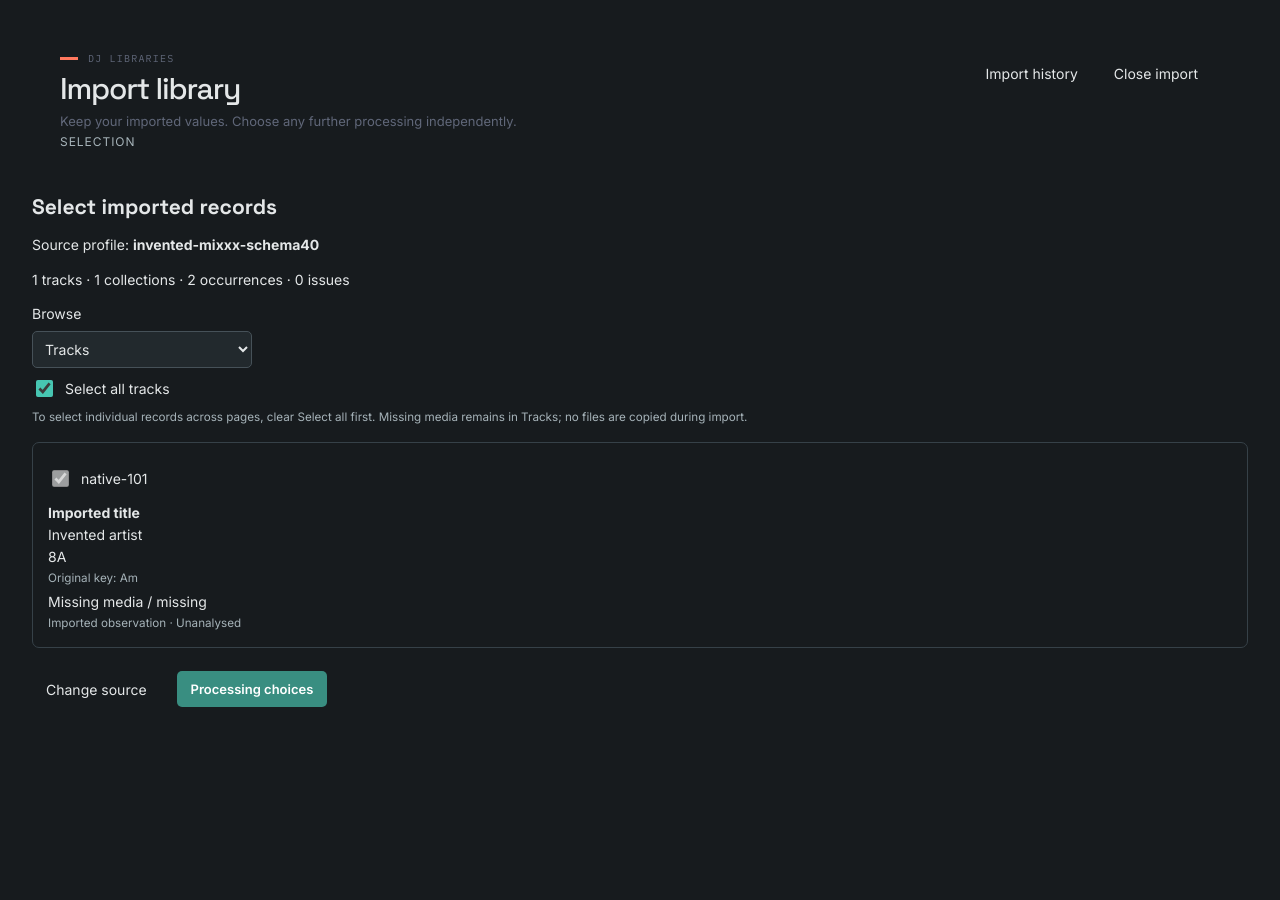
Test: import refresh and recovery › refresh_shows_saved_policy_and_keeps_local_conflict_default
This screenshot has width=1280, height=900.
Expected: the text "Imported title" is shown, [48,504,140,521]
Click the button "Processing choices" at coordinates (252, 689), box [177,671,327,707]
(page scrolled)
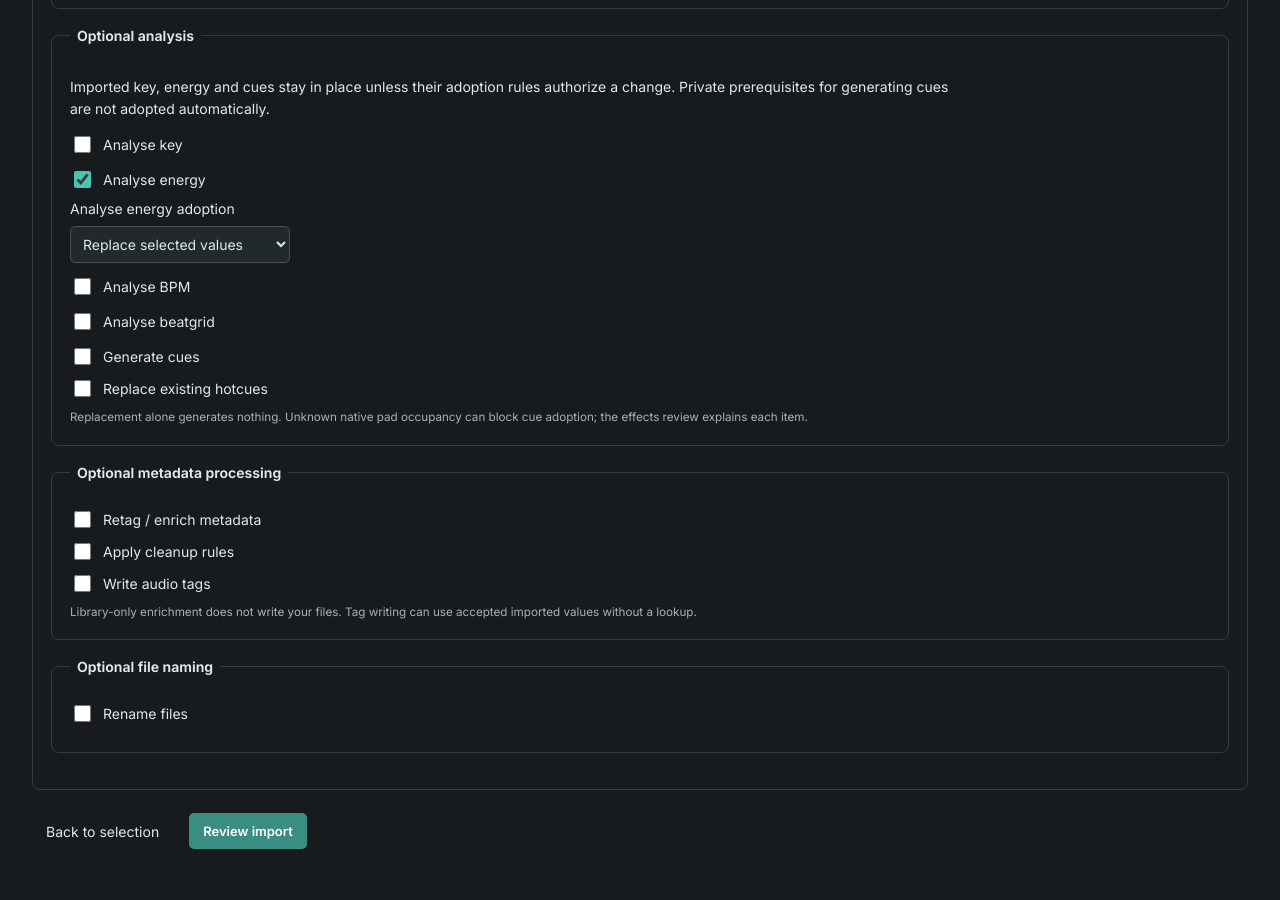
Expected: the checkbox labelled "Analyse energy" is checked, [74,171,91,188]
Click the button "Review import" at coordinates (248, 831), box [189,813,307,849]
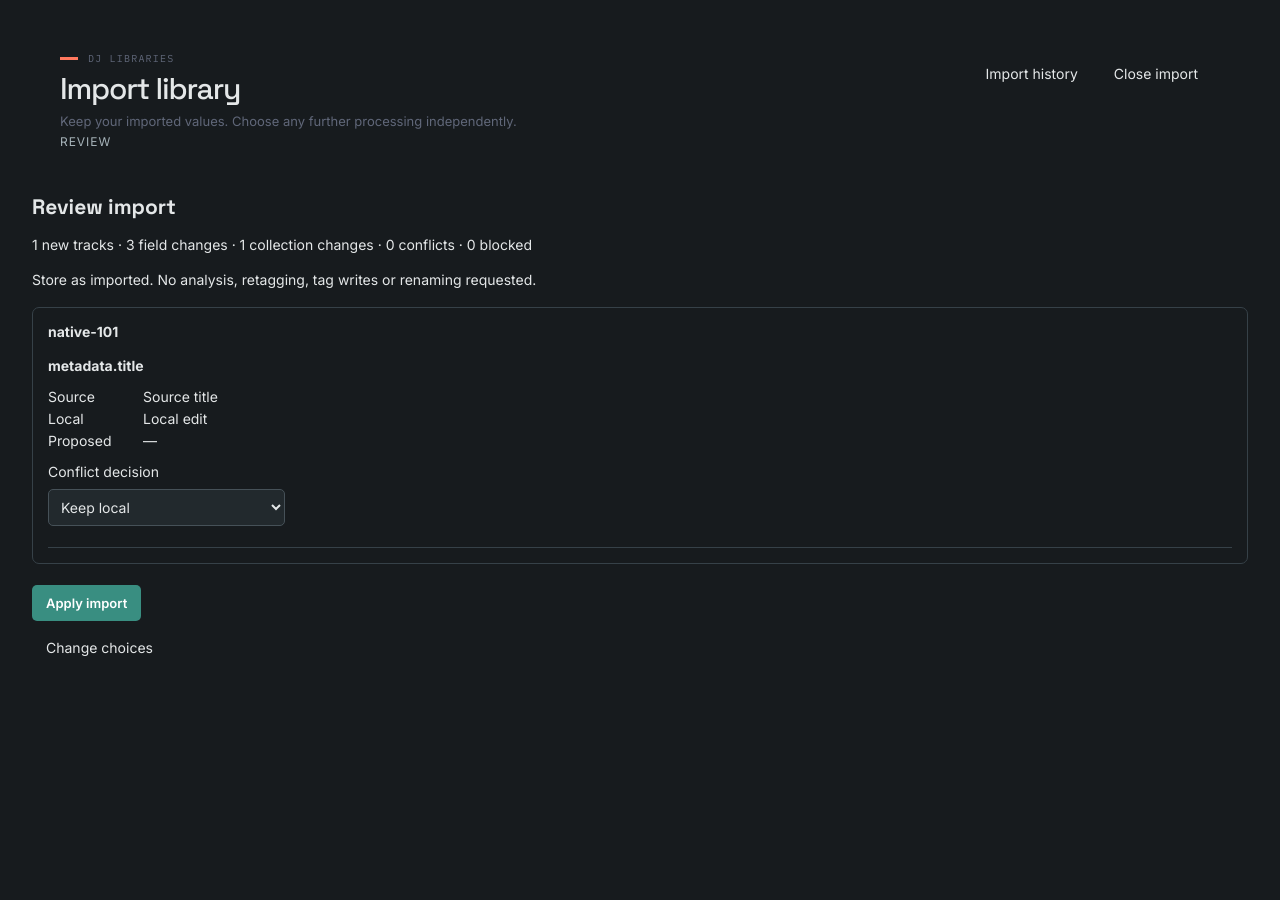
Expected: the dropdown labelled "Conflict decision" shows "Keep local", [48,489,285,526]
